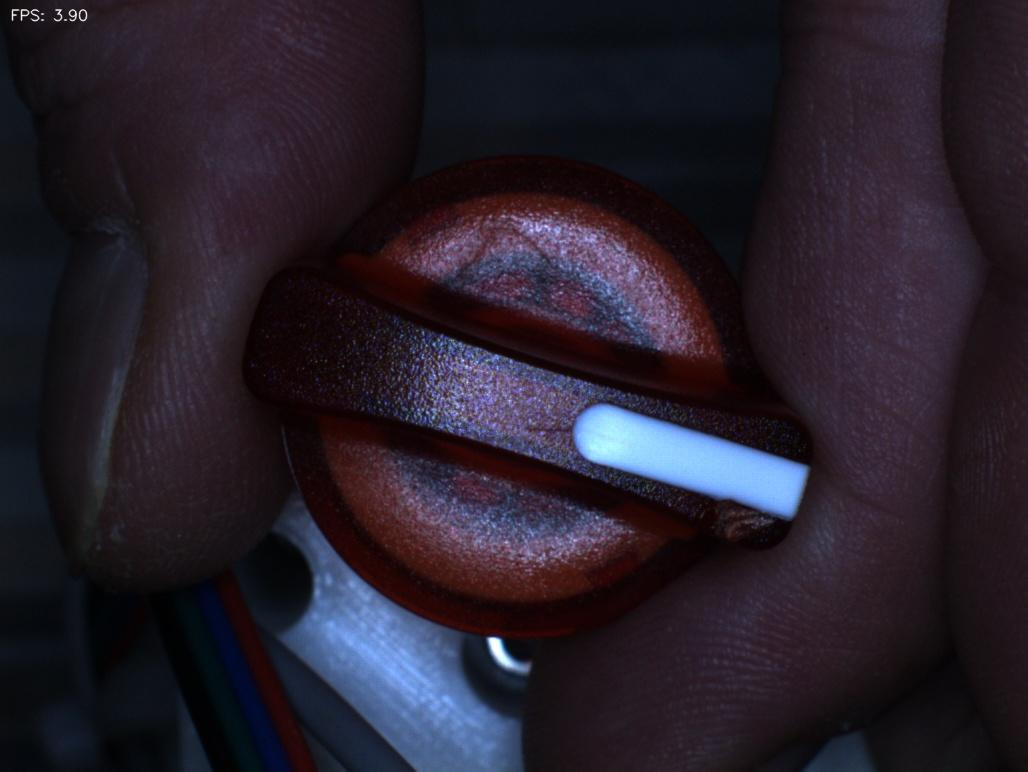Choc: (690, 476, 788, 572)
